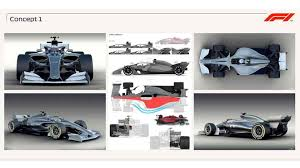FormulaOneCar: (14, 34, 96, 87), (8, 106, 105, 148), (197, 41, 291, 83), (197, 110, 291, 144)
